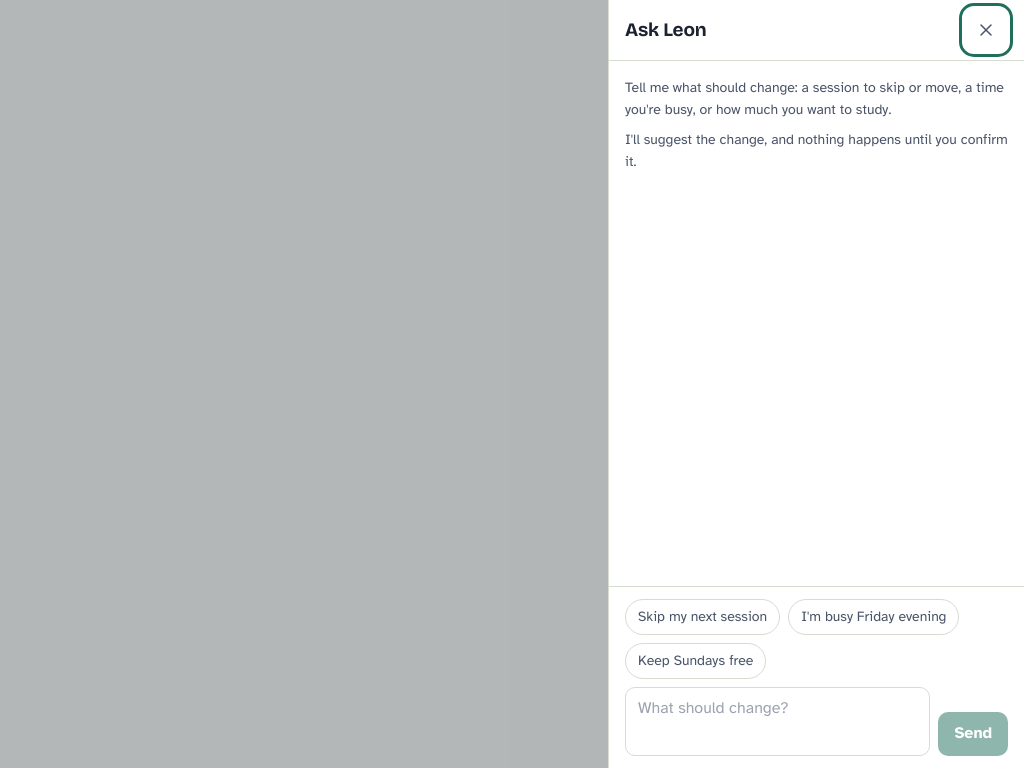
AssistantPanel › sends with Enter and keeps the text when sending fails
The image size is (1024, 768).
Type "Move tonight's session" into the text box named "Message" at [778, 721], box [625,687,930,756]
Then press Enter
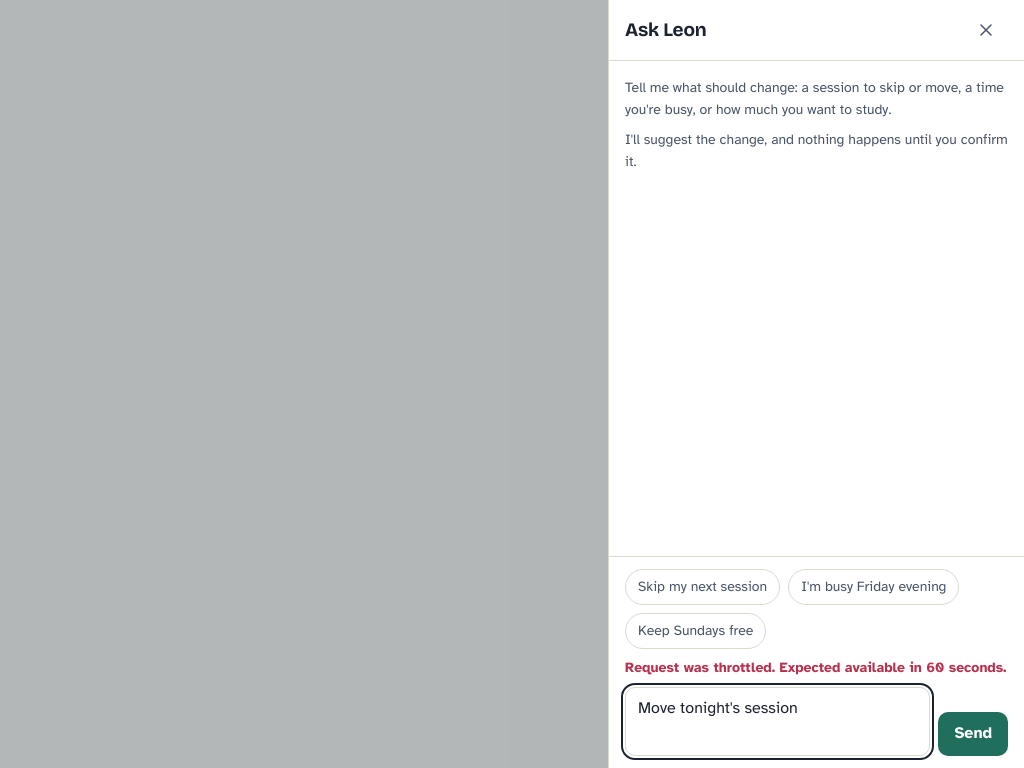
Expected: the message shows "throttled", [625,659,1006,676]
